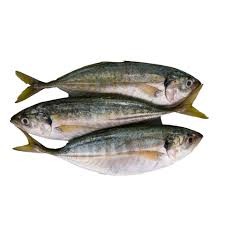Ikan Selar: (12, 48, 203, 105), (34, 130, 210, 178), (5, 97, 209, 137)
